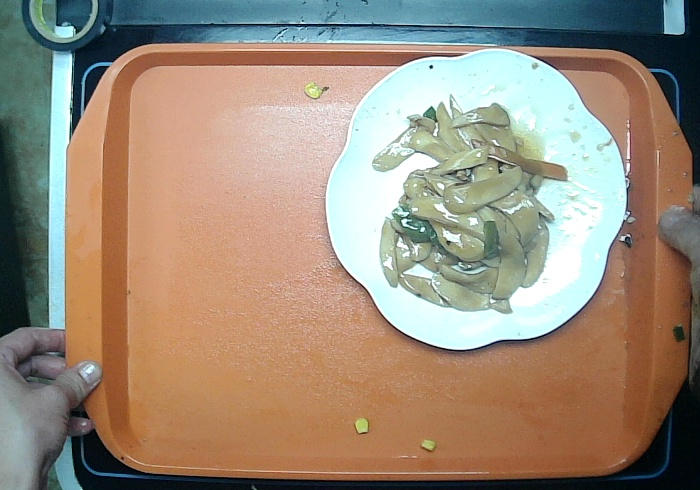HZYJPL-Bai_Se_Hua_Duo_Wan: (324, 46, 628, 351)
